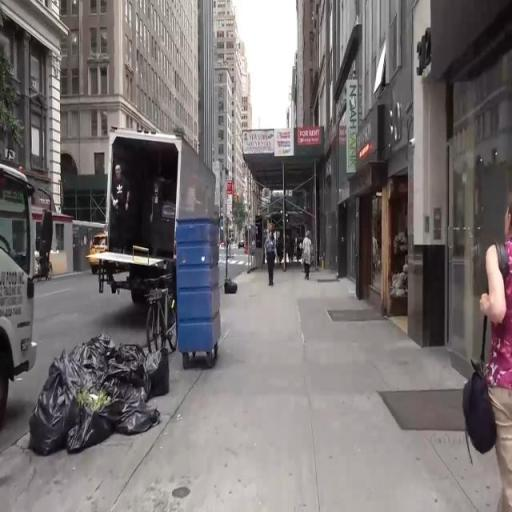person: (466, 183, 512, 512), (265, 227, 286, 286), (304, 230, 320, 283), (298, 238, 307, 270)
